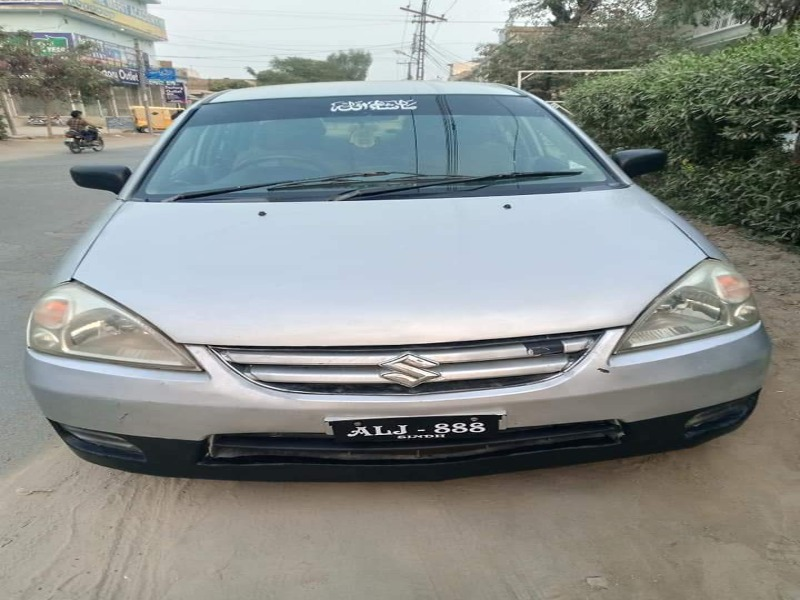License Plate: (320, 407, 511, 457)
